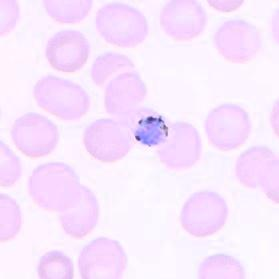Infected: (131, 106, 169, 148)
Uninfected: (26, 161, 81, 213), (34, 74, 88, 119), (178, 190, 225, 238), (206, 102, 252, 149), (76, 235, 125, 279), (98, 3, 147, 47), (214, 18, 260, 64), (81, 118, 130, 161), (11, 114, 57, 157), (161, 120, 202, 168), (159, 0, 208, 40), (61, 186, 98, 238), (236, 142, 275, 189), (105, 72, 146, 116), (46, 31, 91, 71), (92, 50, 132, 86), (196, 252, 245, 279), (36, 247, 73, 279)
